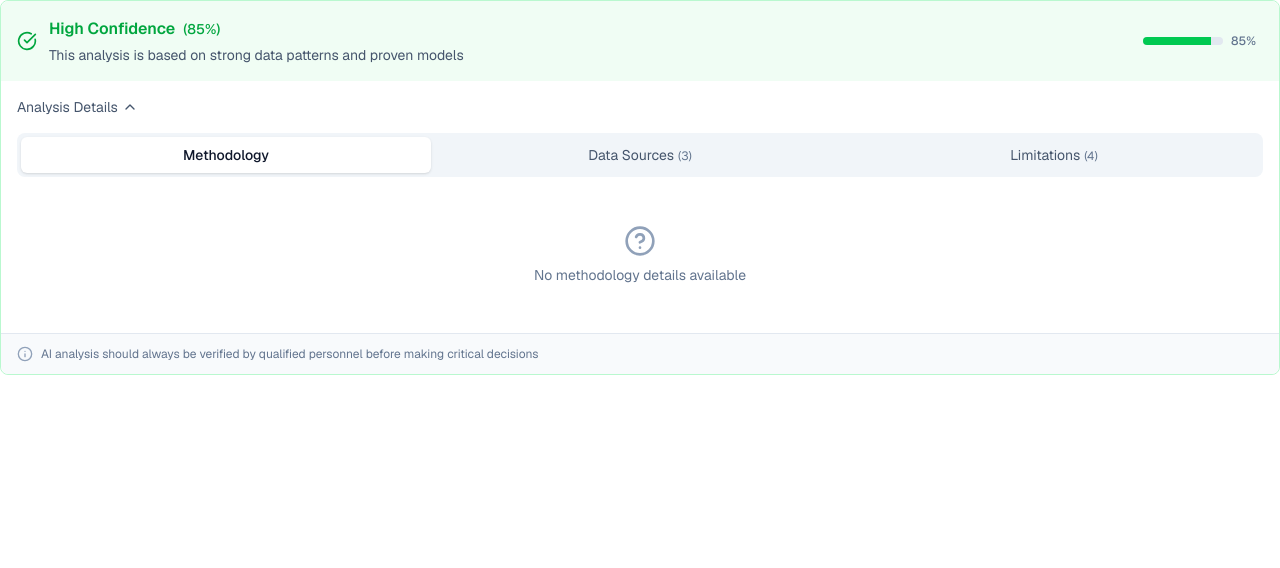
Test: AiConfidenceIndicator › Data Source Types › should display different data source types correctly
The image size is (1280, 568).
Click the button "Data Sources(3)" at (640, 155), box [435,137,845,173]
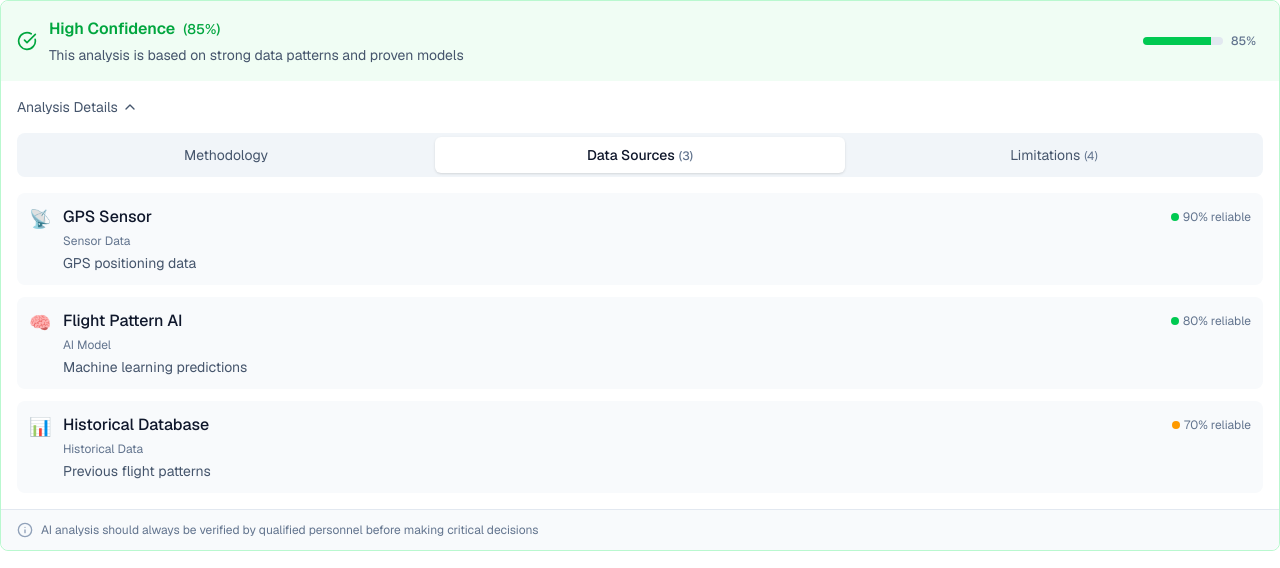
Expected: the text "Sensor Data" is shown, [63,233,130,249]
Expected: the text "AI Model" is shown, [63,337,111,353]
Expected: the text "Historical Data" is shown, [63,441,143,457]
